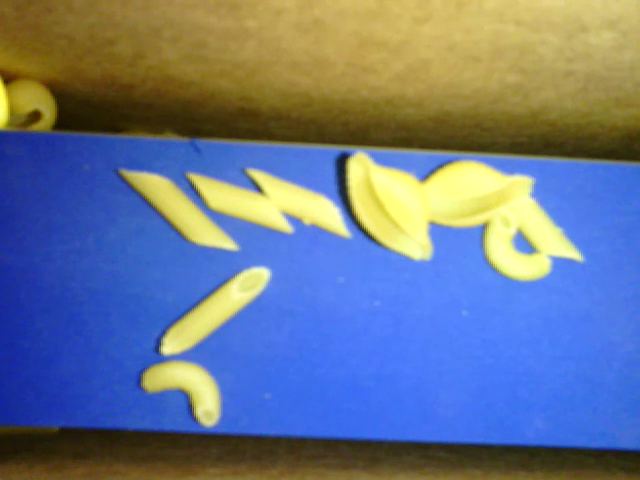elbow: (138, 359, 223, 429), (483, 205, 553, 287)
penne: (160, 265, 273, 358), (118, 170, 240, 252), (248, 168, 350, 240), (187, 170, 295, 238), (500, 195, 588, 267)
shell: (344, 152, 436, 264), (425, 154, 534, 231), (7, 76, 62, 131)
